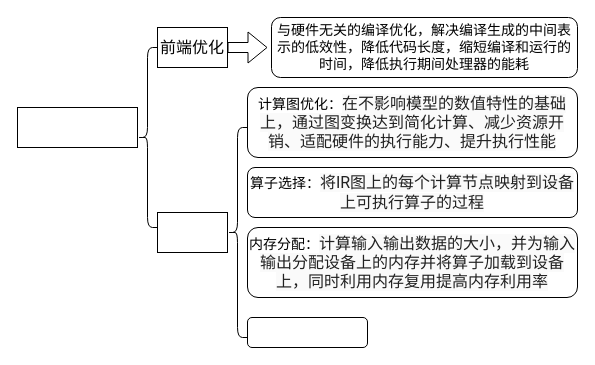
This 595x365 diagram has some shape labels left out. The shapes that lost their labels are listed below. From the top down, each one's centre as x and y in pixels, then its label:
At (x=77, y=127): "编译器优化方式".
At (x=192, y=232): "后端优化".
At (x=307, y=332): "后端编译优化".
